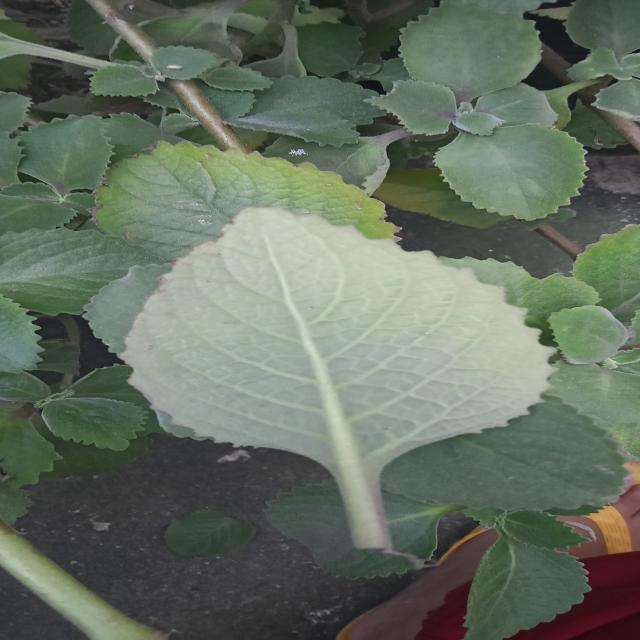Oregano: (70, 199, 606, 503)
